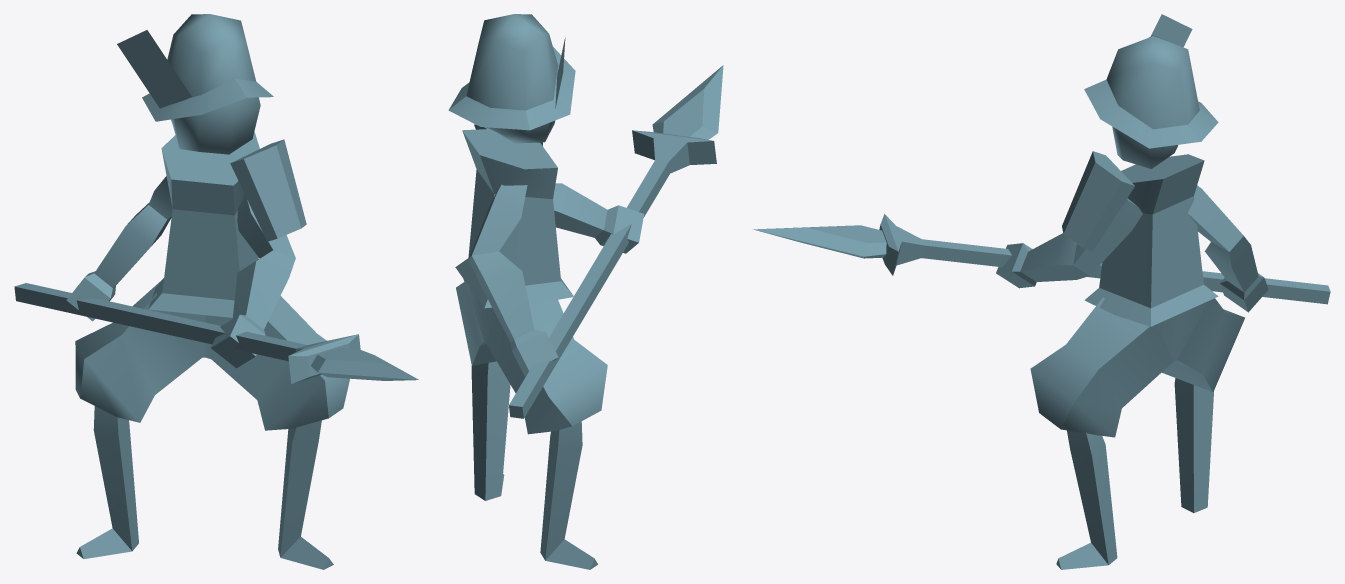
File: SK_Knight.fbx
The picture shows the model from 3 angles, left to right: view 1: azimuth 30°, elevation 25°; view 2: azimuth 150°, elevation 25°; view 3: azimuth 270°, elevation 25°; orthographic projection. The views are drawn at different scales.
Parts seen in each view (by area): view 1: Knight_GEO; view 2: Knight_GEO; view 3: Knight_GEO.
Part boxes in pixels (<box>): Knight_GEO: <box>14,14,418,569</box>; Knight_GEO: <box>448,14,723,569</box>; Knight_GEO: <box>753,14,1330,569</box>.
Bounding box in the file's own units: 137 × 326 × 342.
